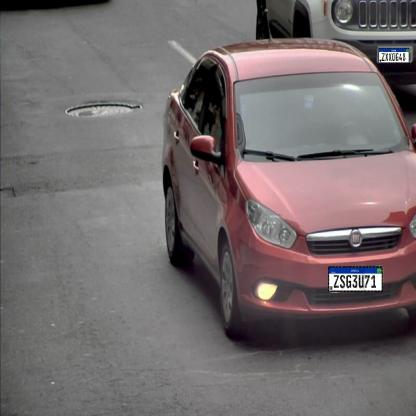PlacaM: (328, 266, 383, 292), (379, 48, 409, 63)
